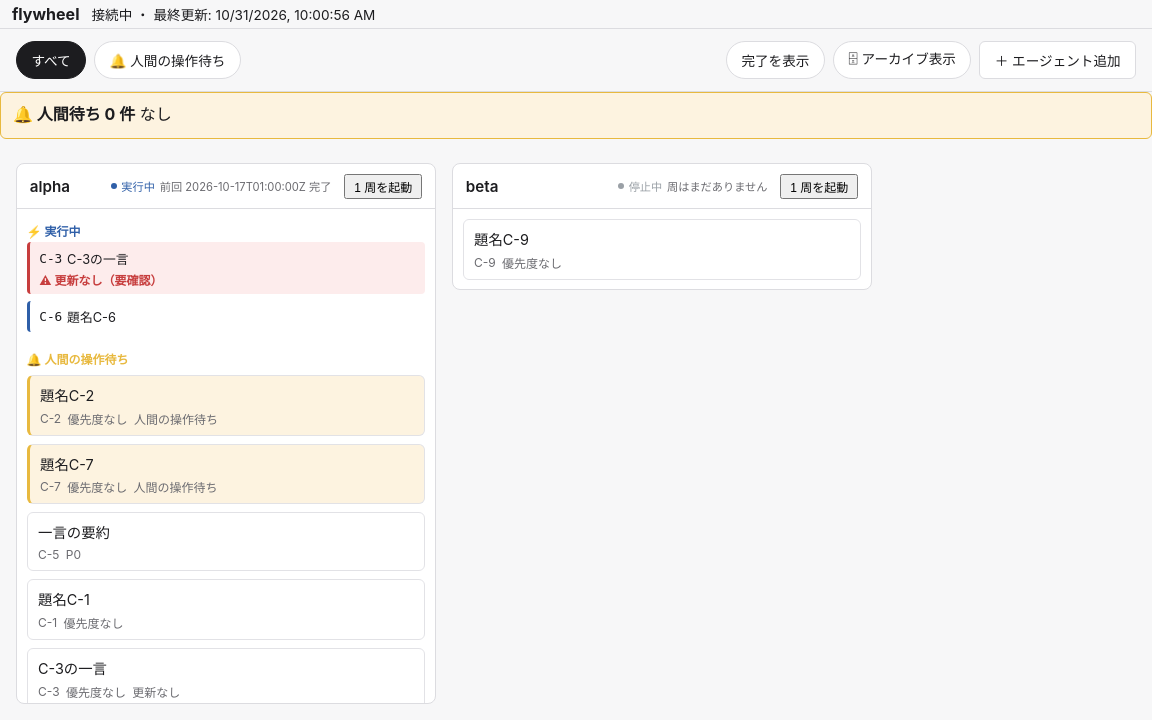
Test: 既定の画面はボード: ワークスペースがエージェントの列として並び、課題がカードで出る
Expected: the text "題名C-1" is shown, top-left (38, 591), bottom-right (90, 608)
Expected: the element named "beta の列" is shown, top-left (452, 163), bottom-right (872, 290)
What coordinates should you click on to do the following:
click the button "完了を表示"
I would click on:
 (775, 60)
Its box is top-left (726, 41), bottom-right (825, 79).
(page scrolled)
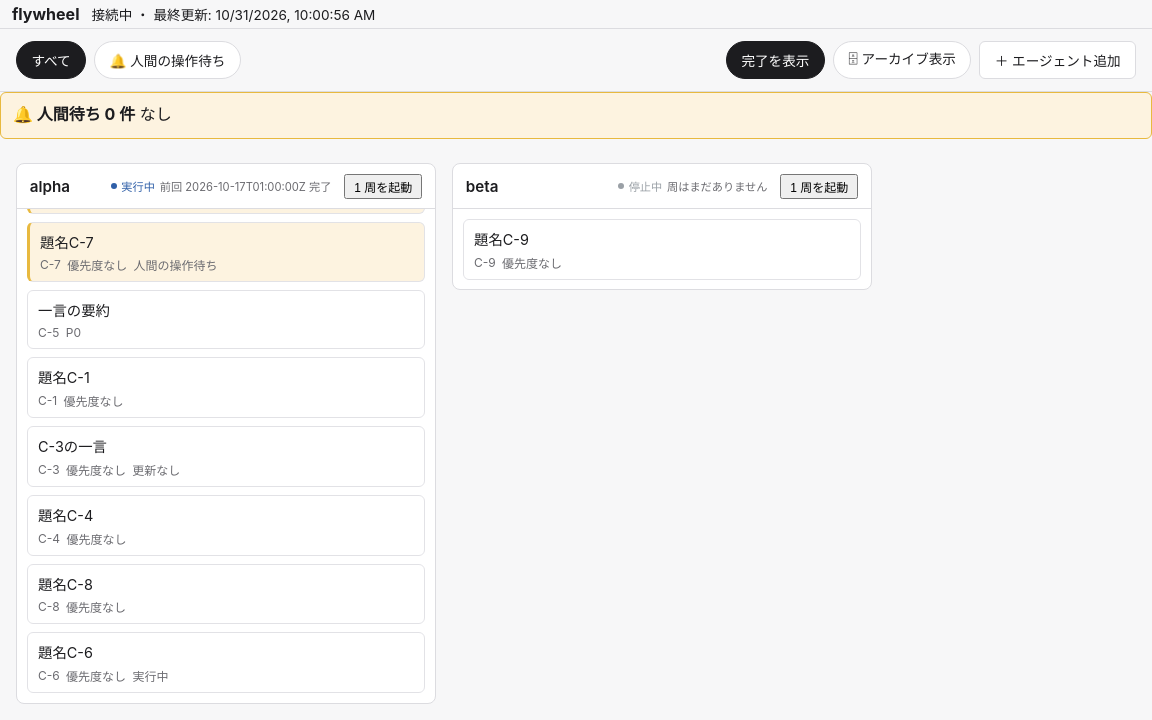
Result: the text "題名C-4" is shown at top-left (38, 507), bottom-right (93, 524)
